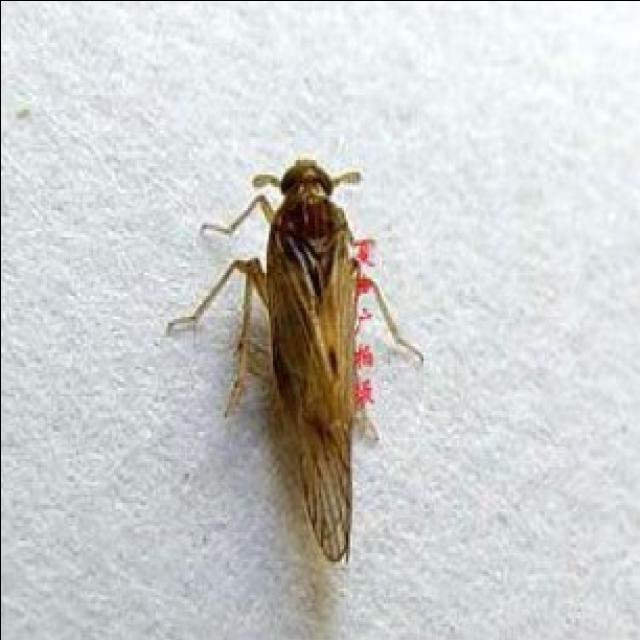brown plant hopper: (167, 157, 420, 558)
